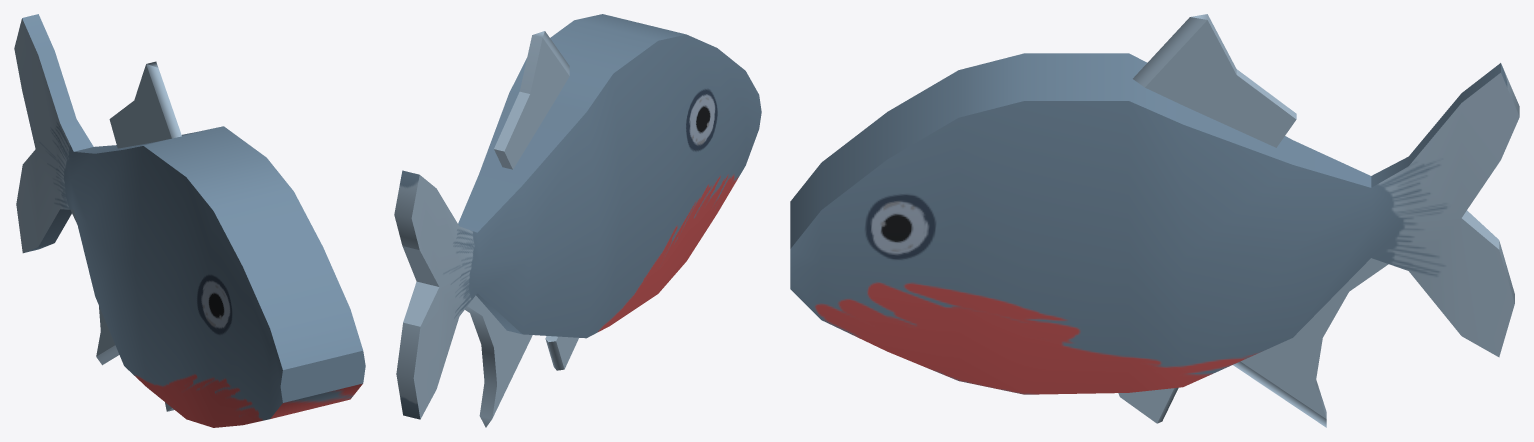
Rendered from Vis1 1.fbx.
3 views of the same model, side by side, from view 1: azimuth 30°, elevation 25°; view 2: azimuth 150°, elevation 25°; view 3: azimuth 270°, elevation 25° (orthographic). The views are drawn at different scales.
Parts seen in each view (by area): view 1: Piranha_1; view 2: Piranha_1; view 3: Piranha_1.
Part boxes in pixels (x1=…): Piranha_1: x1=14, y1=14, x2=365, y2=427; Piranha_1: x1=394, y1=14, x2=761, y2=427; Piranha_1: x1=790, y1=14, x2=1519, y2=427.
Bounding box in the file's own units: 0.617 × 1.89 × 3.03.
